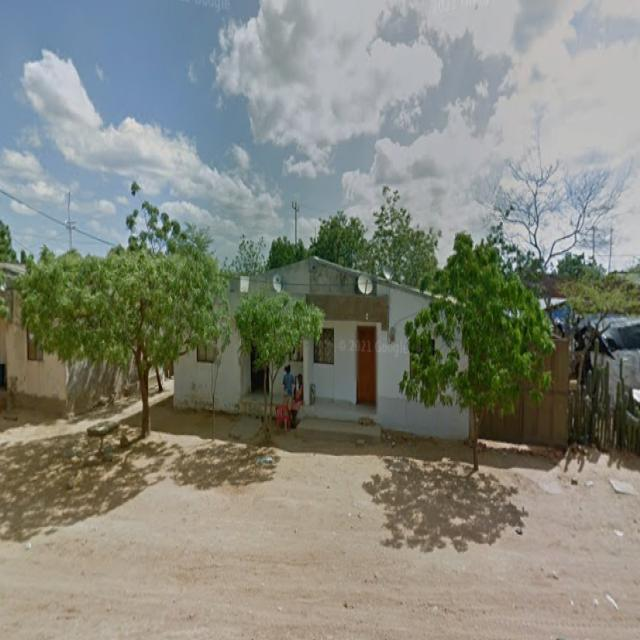Casa: (228, 258, 473, 439), (0, 289, 138, 415), (174, 327, 284, 415), (452, 330, 467, 367), (435, 338, 449, 357), (446, 296, 456, 304)
Poste: (292, 201, 299, 243)
